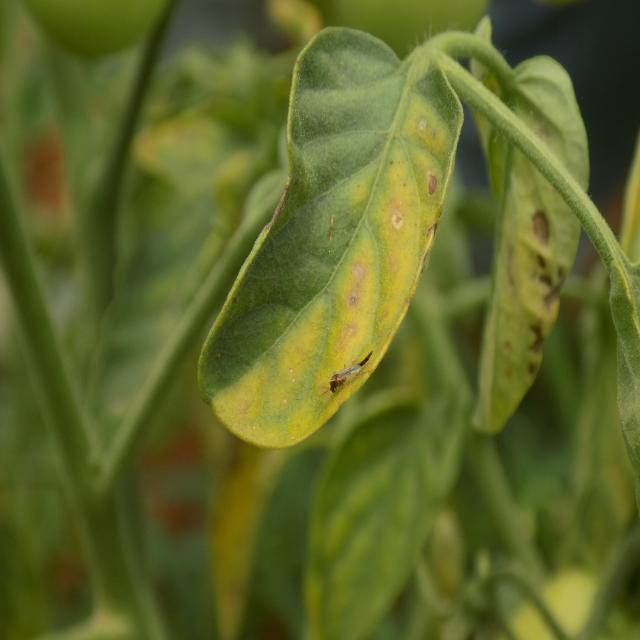tomato_early blight: (197, 19, 467, 446)
